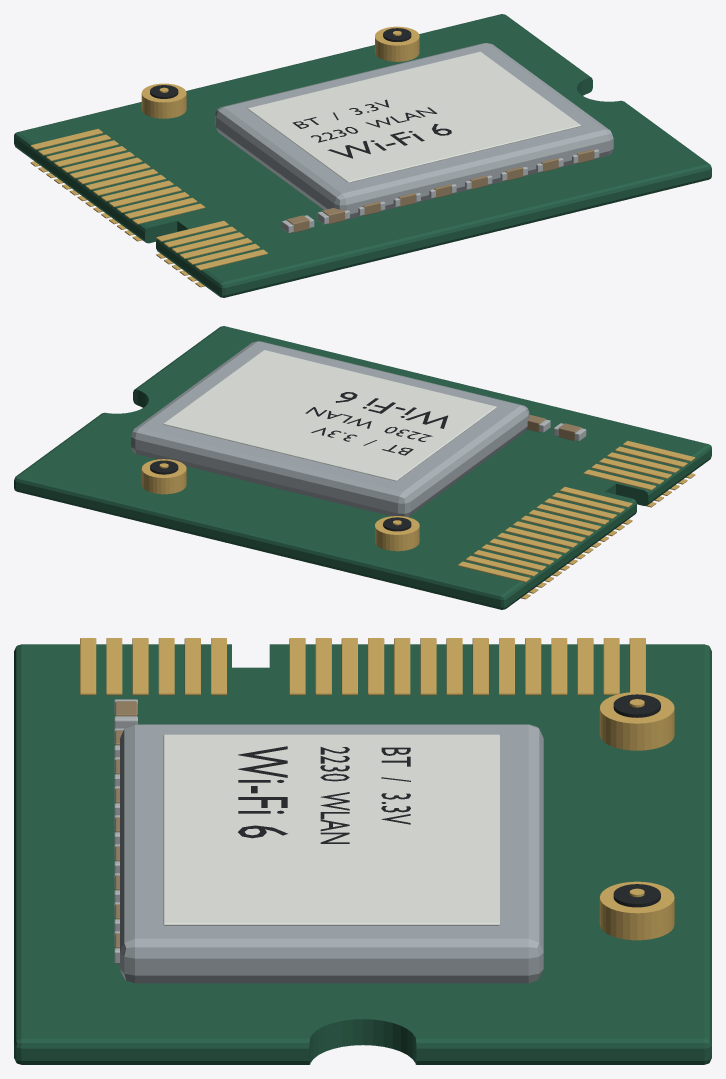
Rendered from wifi.glb.
3 renders of one model, top to bottom at view 1: azimuth 30°, elevation 25°; view 2: azimuth 150°, elevation 25°; view 3: azimuth 270°, elevation 25°, orthographic. The views are drawn at different scales.
Parts seen in each view (by area): view 1: wifi; view 2: wifi; view 3: wifi.
Boxes of the visible parts, left/top/right/bottom form: wifi: left=14, top=14, right=711, bottom=297; wifi: left=14, top=326, right=711, bottom=609; wifi: left=14, top=638, right=711, bottom=1064.
Size of the model in its own units: 0.7625 by 0.0675 by 0.56.
